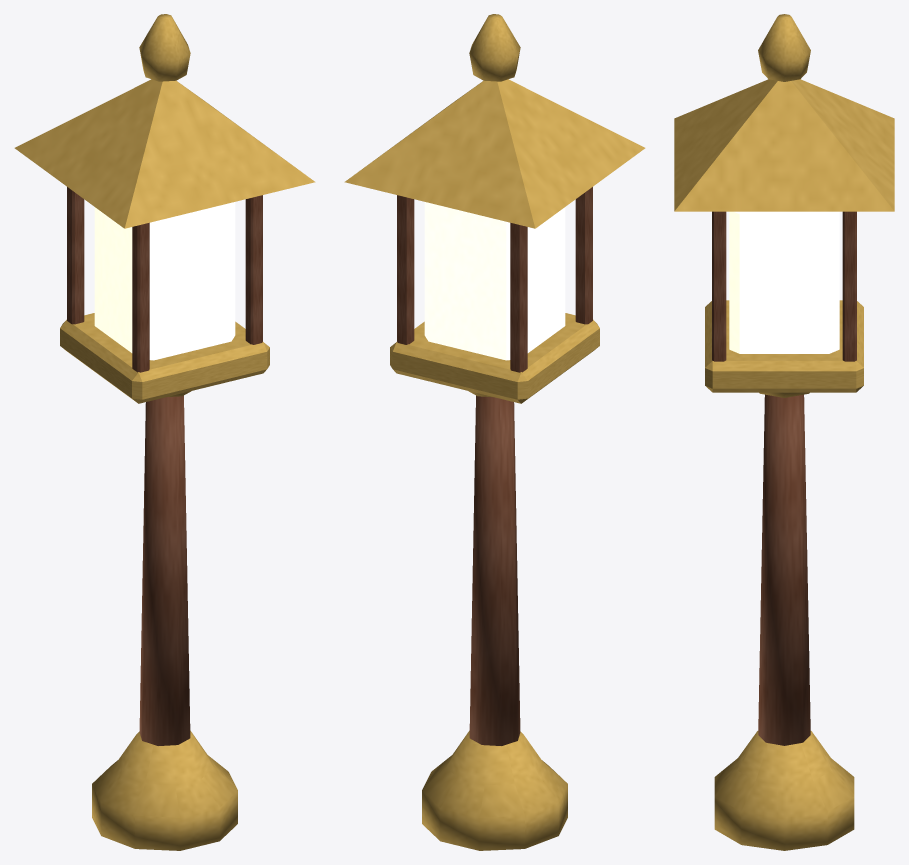
Rendered from garden-lantern.glb.
3 views of the same model, side by side, from view 1: azimuth 30°, elevation 25°; view 2: azimuth 150°, elevation 25°; view 3: azimuth 270°, elevation 25° (orthographic).
Visible parts, largest first — view 1: garden-lantern; view 2: garden-lantern; view 3: garden-lantern.
Boxes of the visible parts, left/top/right/bottom form: garden-lantern: left=14, top=14, right=315, bottom=850; garden-lantern: left=344, top=14, right=645, bottom=850; garden-lantern: left=674, top=14, right=894, bottom=850.
Bounding box in the file's own units: 0.54 × 2.17 × 0.54.
Materials: 3 (3 with a texture image).
